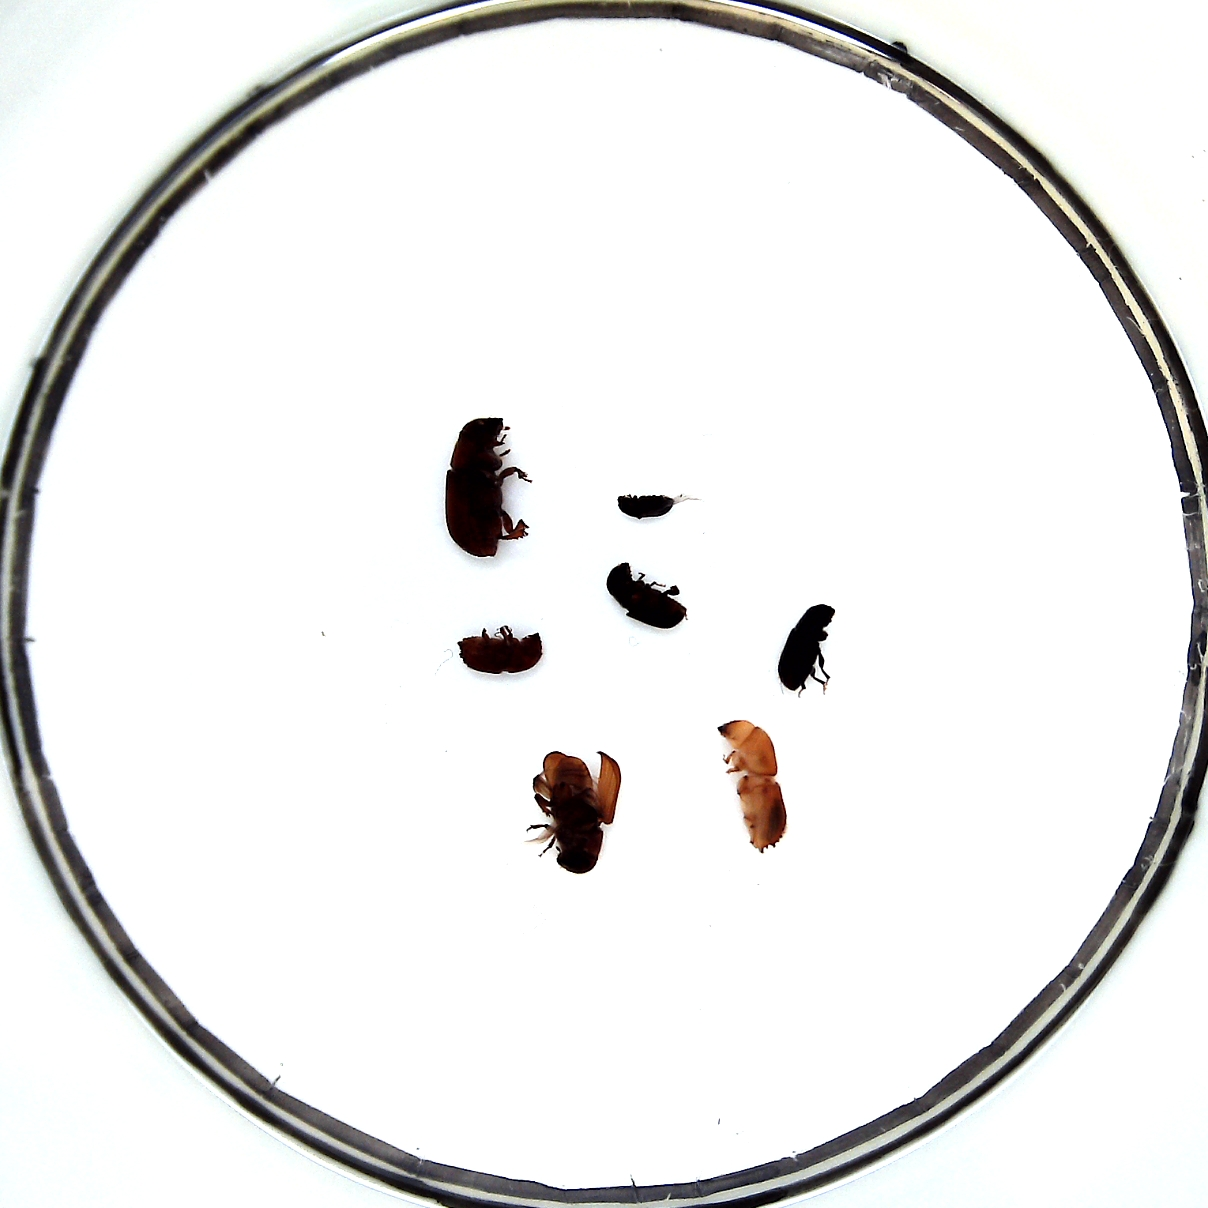Boerner: (717, 720, 787, 855)
Leconte: (533, 750, 621, 873), (445, 417, 511, 558)
armandi: (606, 561, 687, 629), (778, 603, 836, 690)
coleoptera: (617, 493, 675, 520)
linnaeus: (456, 627, 542, 674)
